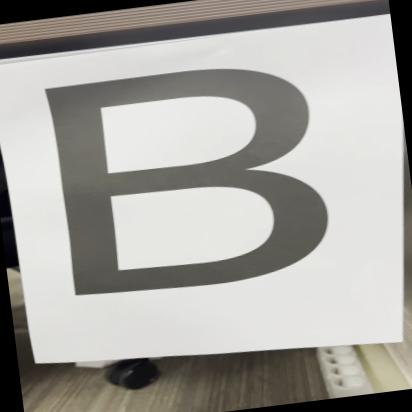seat: (30, 38, 354, 313)
